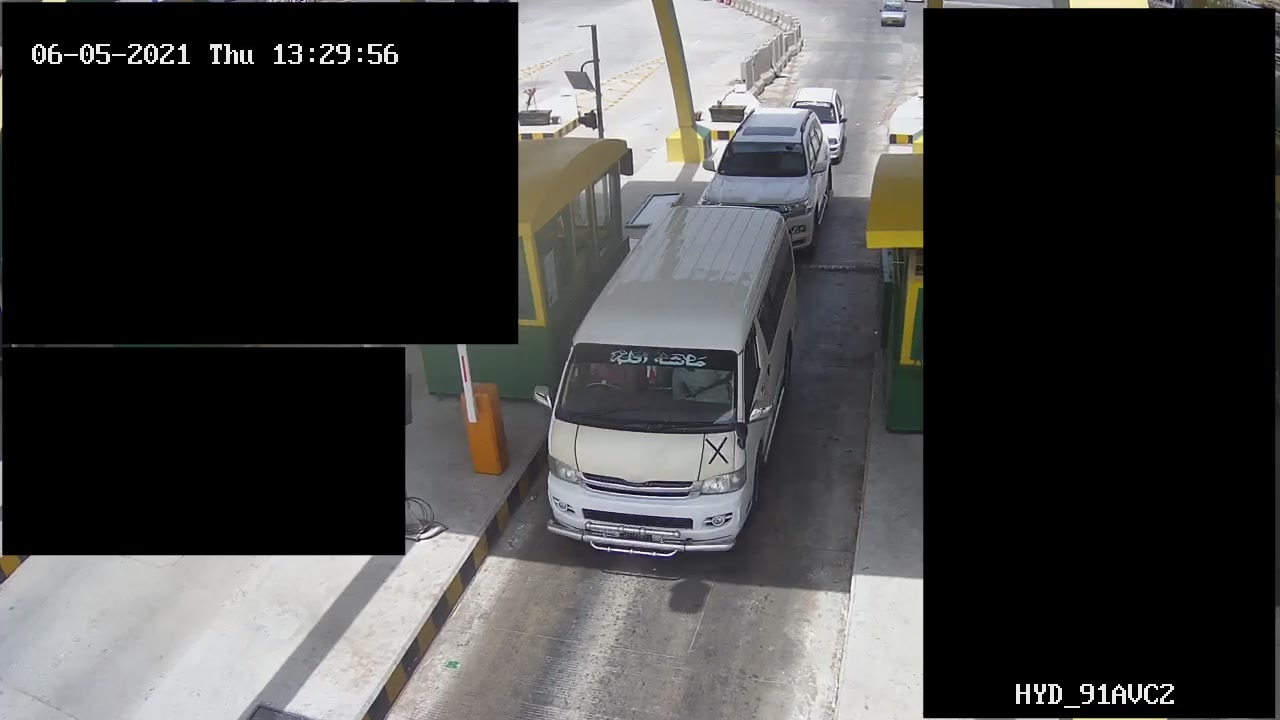F2: (533, 202, 828, 570)
